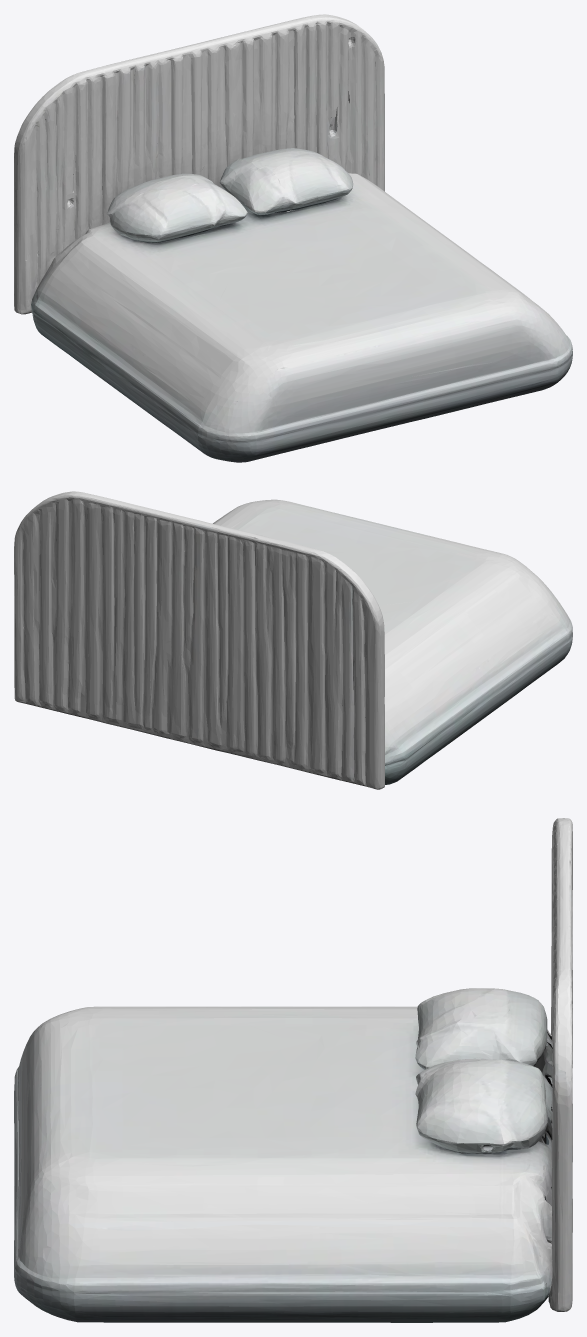
Rendered from 12b1751d-bcb9-4d4d-8228-971ef8833b2e.glb.
3 renders of one model, top to bottom at view 1: azimuth 30°, elevation 25°; view 2: azimuth 150°, elevation 25°; view 3: azimuth 270°, elevation 25°, orthographic. The views are drawn at different scales.
Visible parts, largest first — view 1: world; view 2: world; view 3: world.
Part boxes in pixels (bbox=[...]): world: bbox=[14, 14, 572, 462]; world: bbox=[14, 491, 572, 789]; world: bbox=[14, 818, 572, 1322].
Bounding box in the file's own units: 0.9943 × 0.6154 × 0.9768.
Materials: 1 (1 with a texture image).
